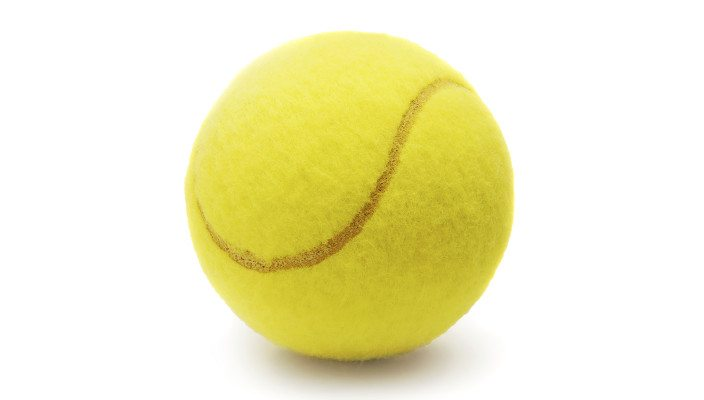tennis_ball: (180, 28, 520, 367)
